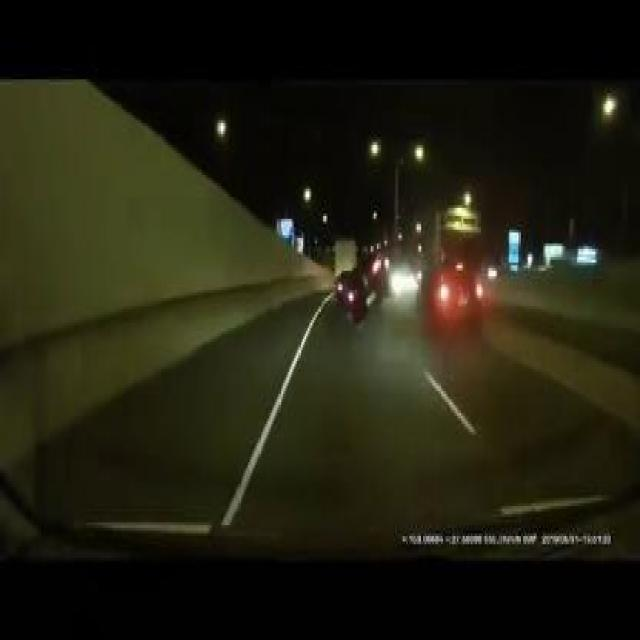accident: (332, 243, 391, 323)
